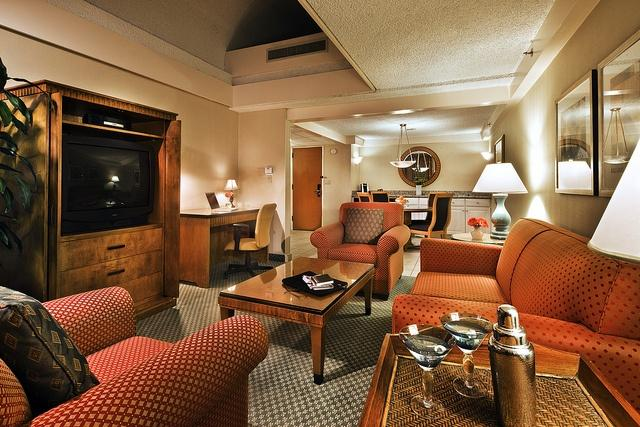Kursi: (220, 202, 276, 277)
Meja: (215, 254, 375, 385)
